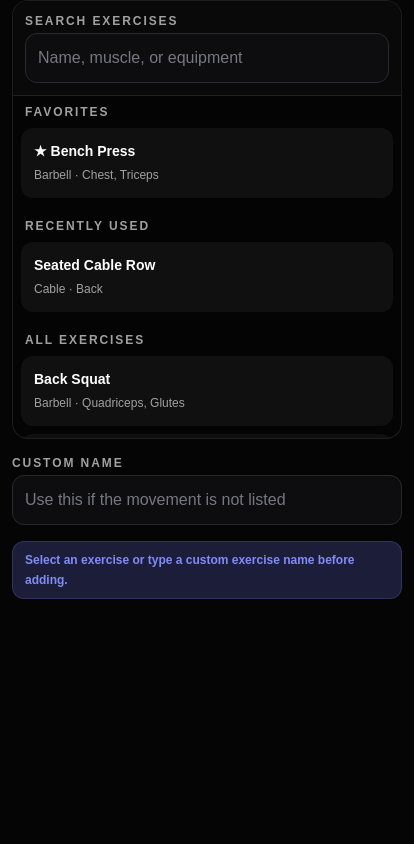
Test: ExerciseSelect › searches exercise equipment and primary muscles
Type "shoulders" into the search field.
click(207, 58); type("shoulders")  # box [25,33,389,83]
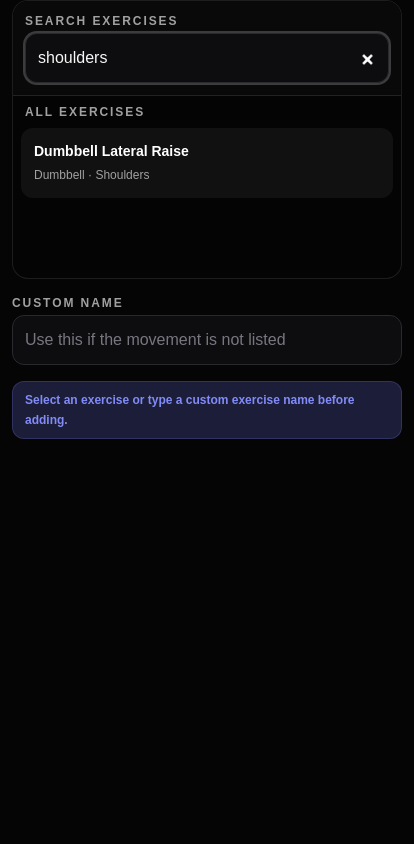
Check: the button "Dumbbell Lateral Raise Dumbbell · Shoulders" is shown, box [22,129,392,197]
Check: the button "Back Squat" is gone
